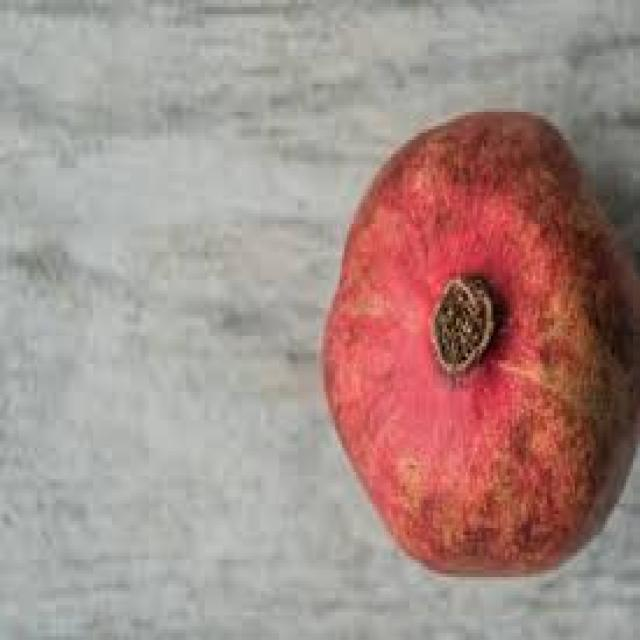overripe: (317, 106, 640, 582)
